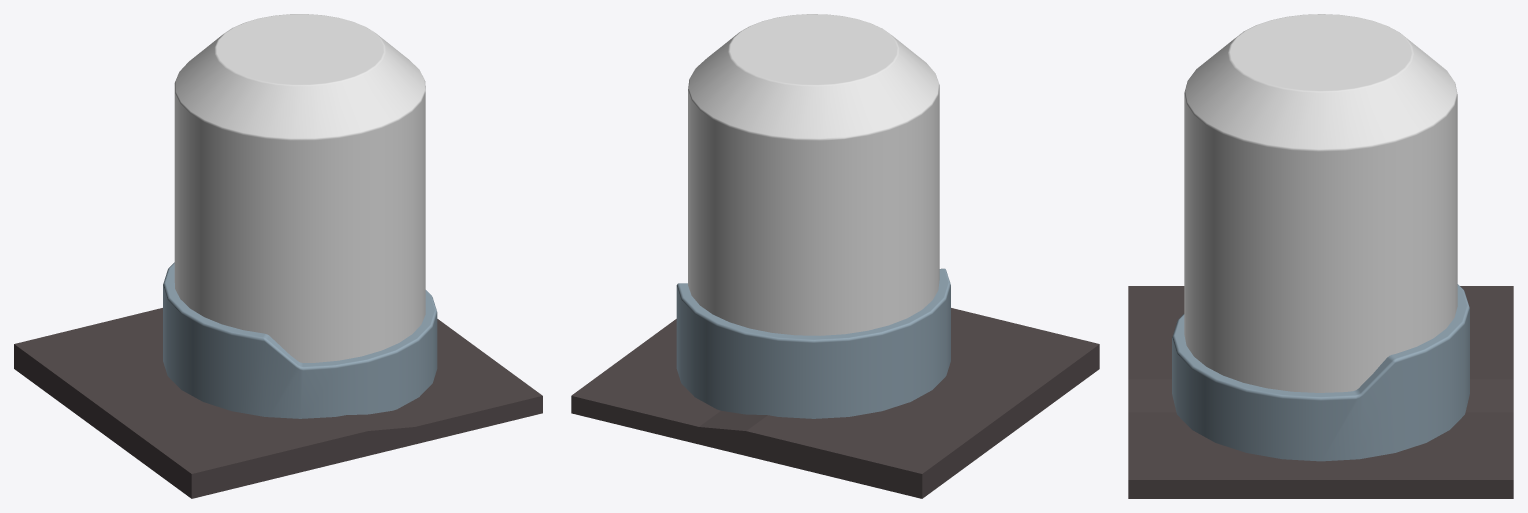
File: Oxyden Container1.fbx
3 renders of one model, left to right at view 1: azimuth 30°, elevation 25°; view 2: azimuth 150°, elevation 25°; view 3: azimuth 270°, elevation 25°, orthographic. The views are drawn at different scales.
Parts seen in each view (by area): view 1: Circle, Plane.001, Container; view 2: Circle, Plane.001, Container; view 3: Circle, Plane.001, Container.
Boxes of the visible parts, x1,y1,x2,y2 form: Circle: (174, 14, 425, 362); Plane.001: (14, 308, 542, 498); Container: (163, 262, 437, 418); Circle: (688, 14, 939, 335); Plane.001: (571, 308, 1099, 498); Container: (676, 268, 950, 418); Circle: (1184, 14, 1457, 392); Plane.001: (1128, 286, 1513, 498); Container: (1172, 284, 1469, 461).
Size of what is drawn, in the model's own units: 583 by 534 by 511.
